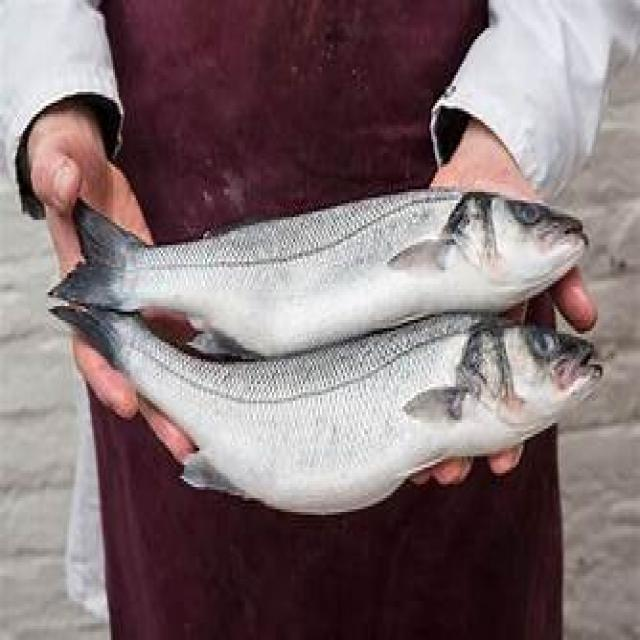Healthy Fish: (39, 188, 614, 521)
